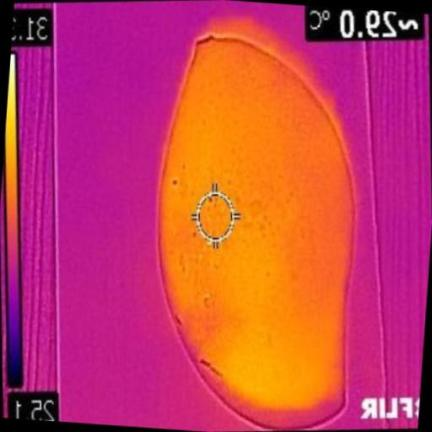mango: (159, 34, 353, 426)
